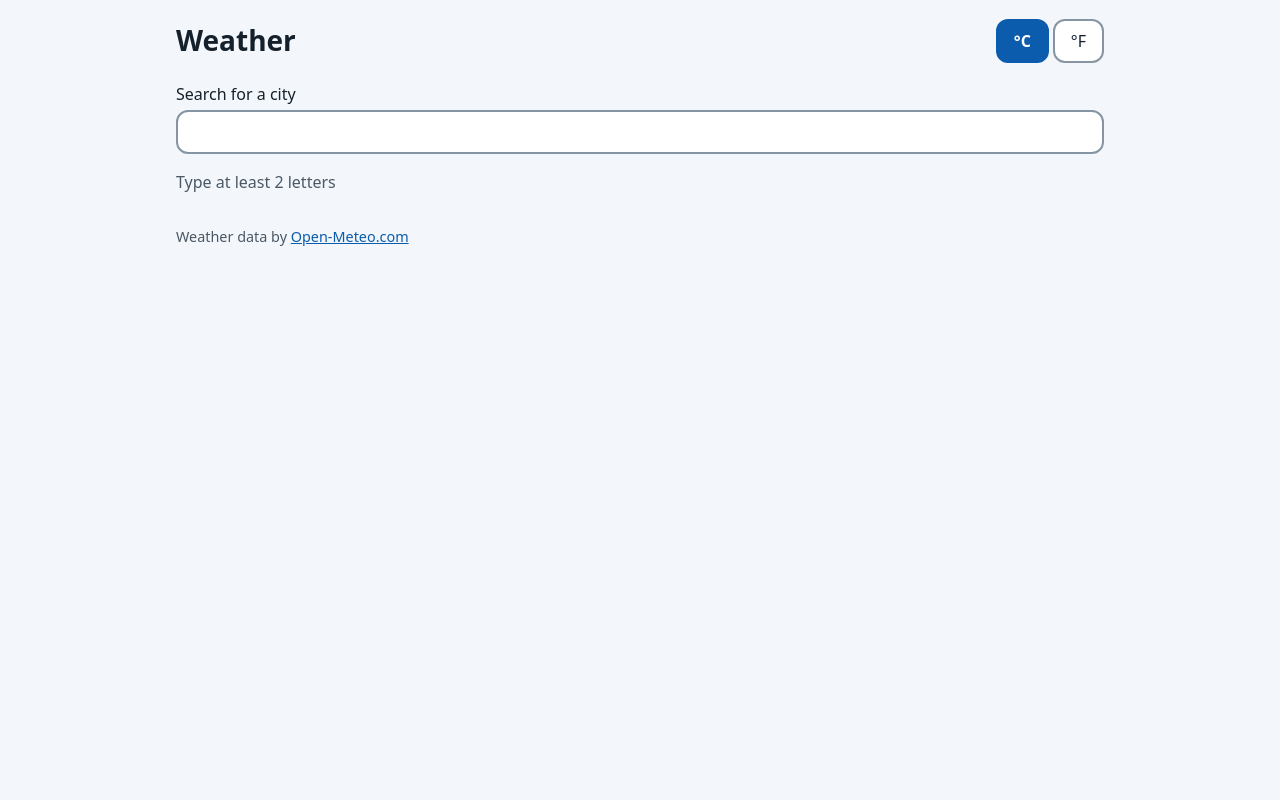
Test: search results › lists several places as buttons and loads the picked one
In the search field labelled "Search for a city": (640, 132) 176,110 -> 1104,154, type "Lon"
Wait 400 ms
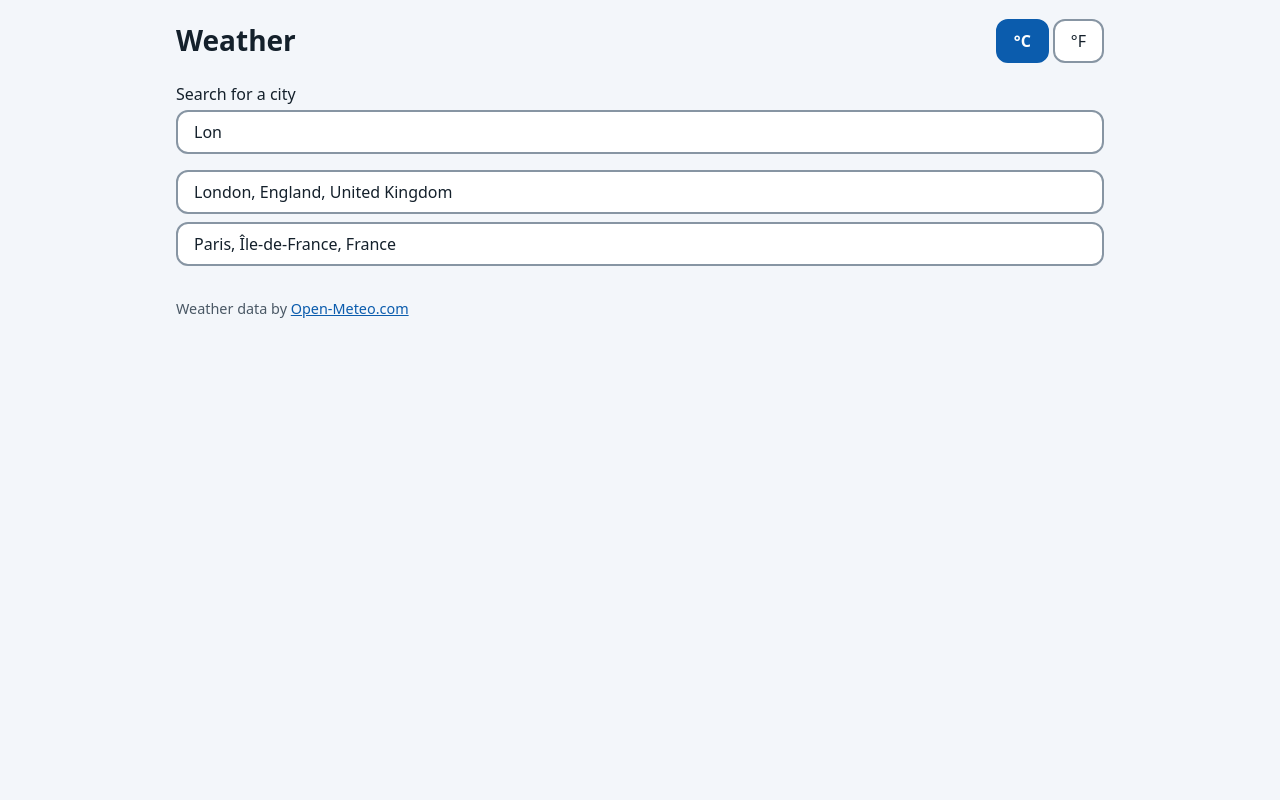
Click the button "London, England, United Kingdom": (323, 192) 176,170 -> 1104,214
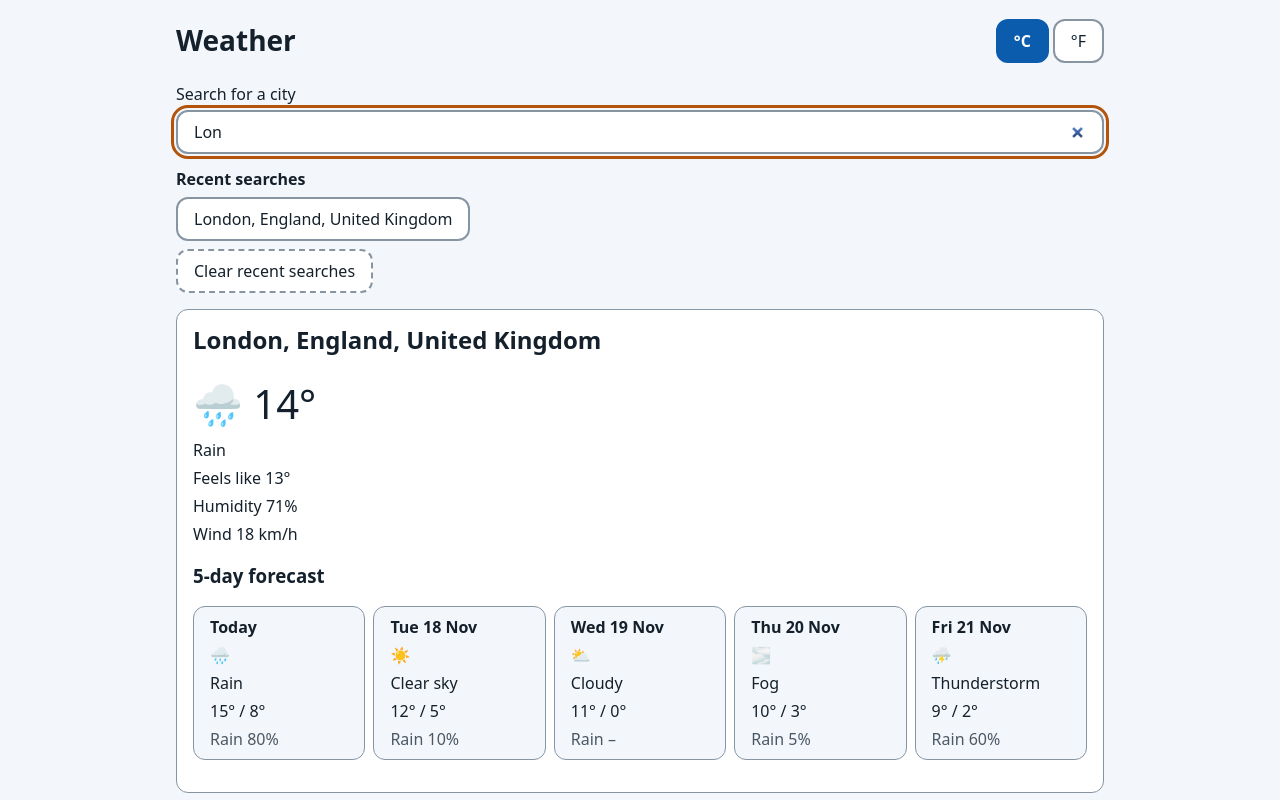
Expected: the heading "London, England, United Kingdom" is shown, 193,323 -> 601,356
